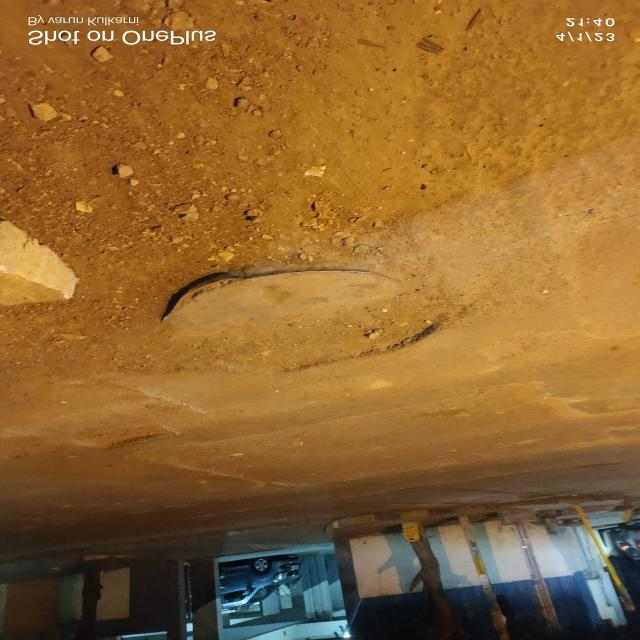manhole: (146, 265, 454, 372)
